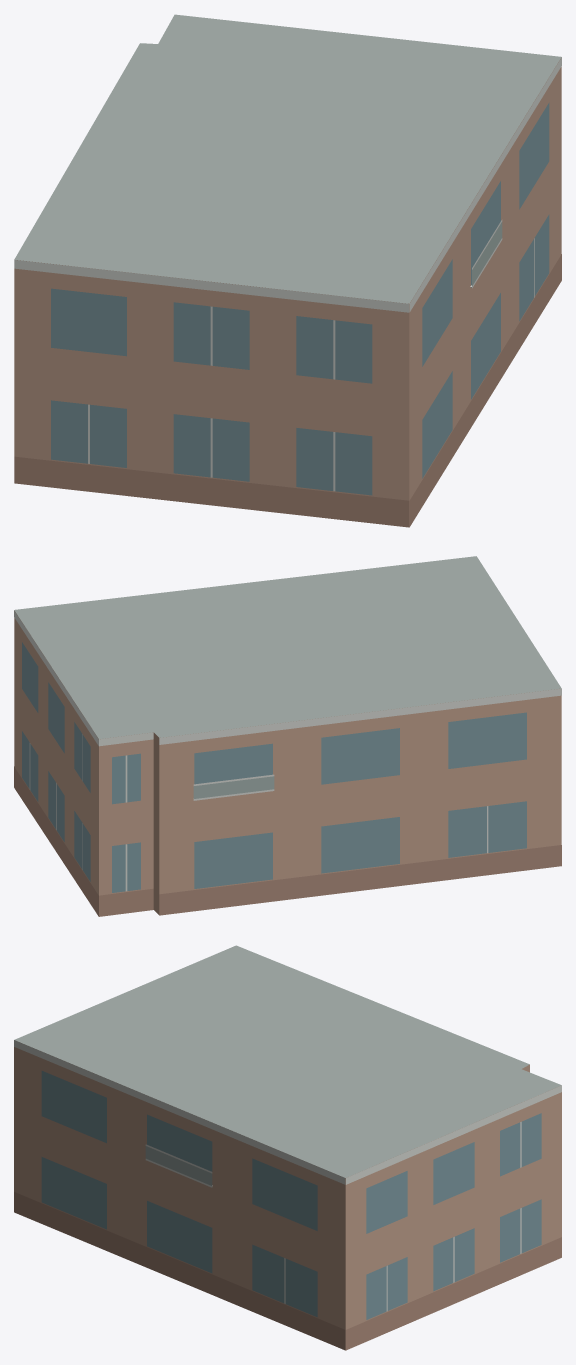
The model's file is survey-upis-32462541.glb.
The picture shows the model from 3 angles, top to bottom: view 1: azimuth 30°, elevation 25°; view 2: azimuth 150°, elevation 25°; view 3: azimuth 270°, elevation 25°; orthographic projection. The views are drawn at different scales.
Visible parts, largest first — view 1: survey-upis-32462541.tmp; view 2: survey-upis-32462541.tmp; view 3: survey-upis-32462541.tmp.
Part boxes in pixels (x1=…): survey-upis-32462541.tmp: x1=14, y1=14, x2=561, y2=527; survey-upis-32462541.tmp: x1=14, y1=556, x2=561, y2=916; survey-upis-32462541.tmp: x1=14, y1=945, x2=561, y2=1350.
Size of the model in its own units: 17.67 by 6.1 by 17.57.
